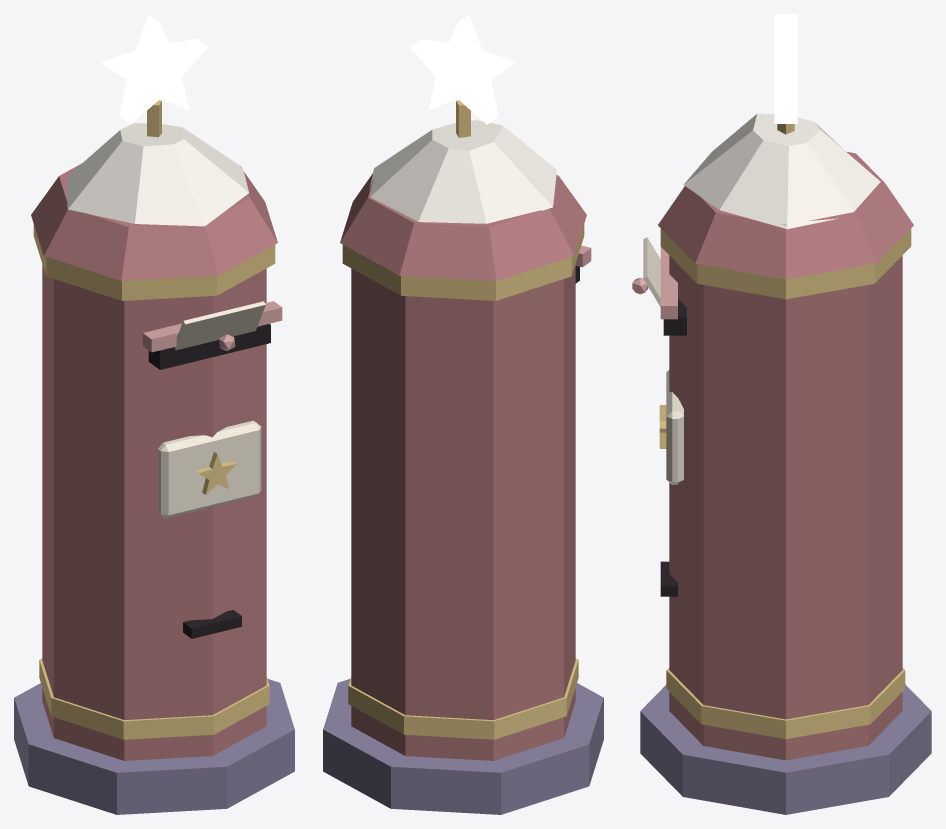
The model's file is sb_mailbox.glb.
The picture shows the model from 3 angles, left to right: view 1: azimuth 30°, elevation 25°; view 2: azimuth 150°, elevation 25°; view 3: azimuth 270°, elevation 25°; orthographic projection.
Visible parts, largest first — view 1: mailbox; view 2: mailbox; view 3: mailbox.
Boxes of the visible parts, x1,y1,x2,y2 form: mailbox: (14,14,294,814); mailbox: (323,14,603,814); mailbox: (632,14,931,814).
Size of the model in its own units: 0.5 by 1.4 by 0.5136.
